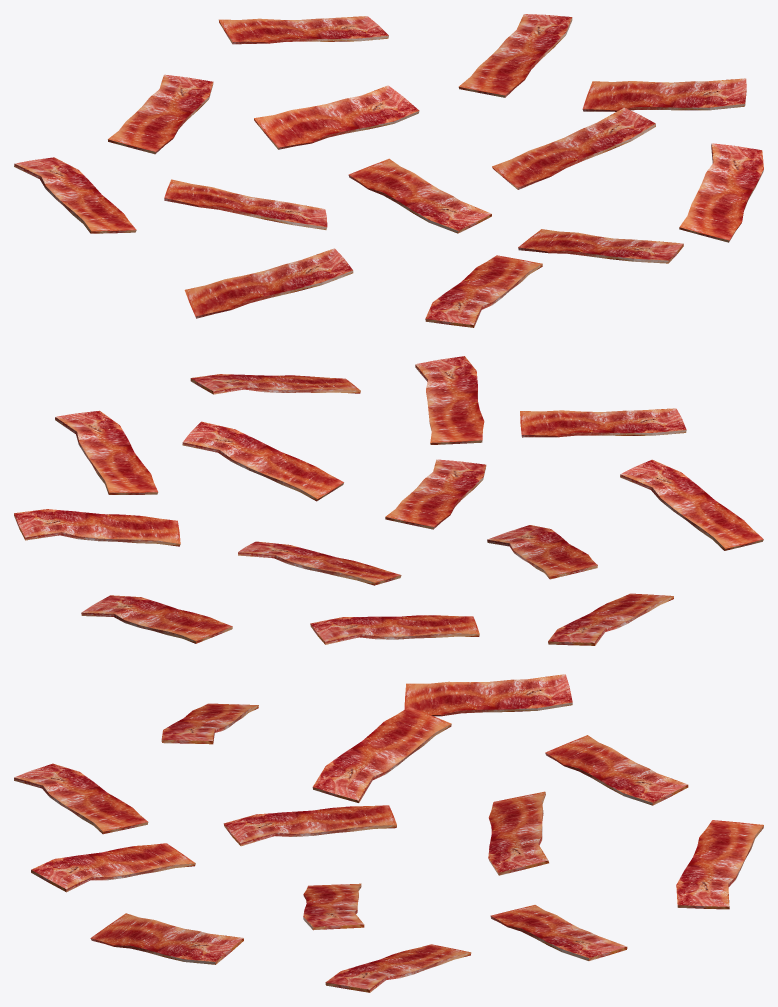
Rendered from bacon_topping.fbx.
The picture shows the model from 3 angles, top to bottom: view 1: azimuth 30°, elevation 25°; view 2: azimuth 150°, elevation 25°; view 3: azimuth 270°, elevation 25°; orthographic projection.
Visible parts, largest first — view 1: bacon.009, bacon.002, bacon.006, bacon.011, bacon.003, bacon.005, bacon.004, bacon.008, bacon.001, bacon, bacon.012, bacon.010 (+1 smaller); view 2: bacon.006, bacon.011, bacon.007, bacon.005, bacon.003, bacon.001, bacon.008, bacon.004, bacon.012, bacon.010, bacon, bacon.009 (+1 smaller); view 3: bacon.010, bacon, bacon.012, bacon.008, bacon.002, bacon.004, bacon.007, bacon.001, bacon.009, bacon.005, bacon.003, bacon.011 (+1 smaller).
Part boxes in pixels (x1,y1,x2,y2): bacon.009: (254,85,419,149); bacon.002: (679,143,763,242); bacon.006: (184,248,353,318); bacon.011: (492,107,655,189); bacon.003: (582,78,746,111); bacon.005: (458,14,572,97); bacon.004: (348,158,491,233); bacon.008: (108,74,213,154); bacon.001: (425,255,542,327); bacon: (14,157,136,233); bacon.012: (219,16,388,44); bacon.010: (164,179,327,229); bacon.006: (620,459,763,550); bacon.011: (182,421,343,501); bacon.007: (415,356,484,444); bacon.005: (14,509,180,546); bacon.003: (55,410,158,494); bacon.001: (520,408,686,437); bacon.008: (310,615,479,644); bacon.004: (385,459,486,529); bacon.012: (81,595,232,643); bacon.010: (487,525,597,579); bacon: (548,593,673,645); bacon.009: (238,541,401,585); bacon.010: (312,706,451,802); bacon: (404,674,572,716); bacon.012: (676,820,763,909); bacon.008: (545,735,688,805); bacon.002: (90,913,243,964); bacon.004: (223,805,396,846); bacon.007: (31,843,195,892); bacon.001: (14,763,148,834); bacon.009: (488,791,548,875); bacon.005: (490,905,627,960); bacon.003: (325,944,471,992); bacon.011: (303,883,364,930).
Bounding box in the file's own units: 53.46 × 2.79 × 53.43.
13 materials, 13 textured.
